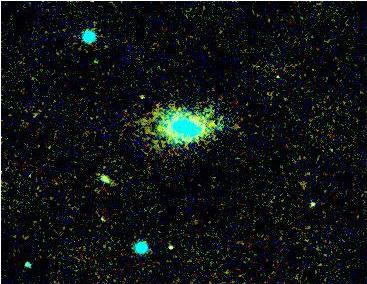star: (128, 86, 158, 116)
